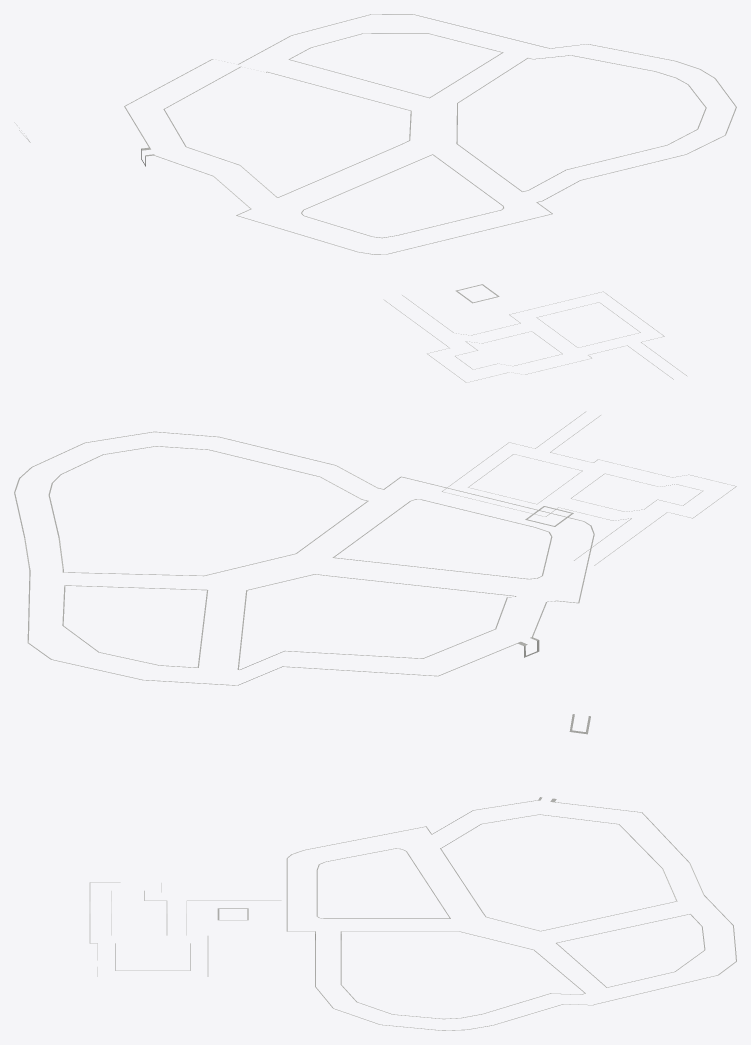
Rendered from kd_stage_1363c5_9_9.glb.
3 views of the same model, one above another, from view 1: azimuth 30°, elevation 25°; view 2: azimuth 150°, elevation 25°; view 3: azimuth 270°, elevation 25° (orthographic). The views are drawn at different scales.
Parts seen in each view (by area): view 1: kd_stage_1363c5_9_9; view 2: kd_stage_1363c5_9_9; view 3: kd_stage_1363c5_9_9.
Part boxes in pixels (x1,y1,x2,y2): kd_stage_1363c5_9_9: (14, 14, 736, 382); kd_stage_1363c5_9_9: (14, 411, 736, 685); kd_stage_1363c5_9_9: (89, 714, 736, 1030).
Bounding box in the file's own units: 136 × 22.13 × 152.
Materials: 1 (1 with a texture image).
